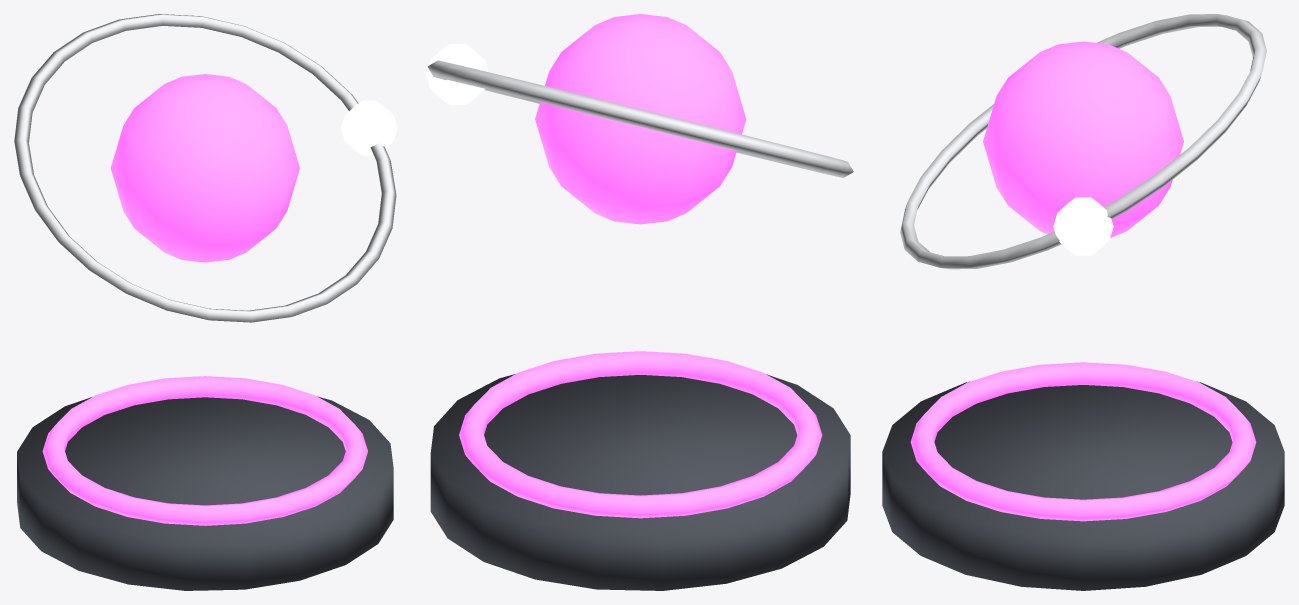
Rendered from holo_lamp_orbit.glb.
3 views of the same model, side by side, from view 1: azimuth 30°, elevation 25°; view 2: azimuth 150°, elevation 25°; view 3: azimuth 270°, elevation 25° (orthographic). The views are drawn at different scales.
Visible parts, largest first — view 1: GD_holo_lamp_orbit__m0, GD_holo_lamp_orbit__m1, GD_holo_lamp_orbit__m2, GD_holo_lamp_orbit__m3; view 2: GD_holo_lamp_orbit__m0, GD_holo_lamp_orbit__m1, GD_holo_lamp_orbit__m2, GD_holo_lamp_orbit__m3; view 3: GD_holo_lamp_orbit__m0, GD_holo_lamp_orbit__m1, GD_holo_lamp_orbit__m2, GD_holo_lamp_orbit__m3.
Boxes of the visible parts, left/top/right/bottom form: GD_holo_lamp_orbit__m0: left=17, top=396, right=393, bottom=590; GD_holo_lamp_orbit__m1: left=42, top=74, right=367, bottom=525; GD_holo_lamp_orbit__m2: left=14, top=14, right=396, bottom=322; GD_holo_lamp_orbit__m3: left=341, top=100, right=397, bottom=155; GD_holo_lamp_orbit__m0: left=430, top=374, right=850, bottom=590; GD_holo_lamp_orbit__m1: left=459, top=14, right=822, bottom=518; GD_holo_lamp_orbit__m2: left=427, top=60, right=853, bottom=177; GD_holo_lamp_orbit__m3: left=426, top=44, right=488, bottom=105; GD_holo_lamp_orbit__m0: left=882, top=381, right=1284, bottom=590; GD_holo_lamp_orbit__m1: left=910, top=41, right=1256, bottom=521; GD_holo_lamp_orbit__m2: left=900, top=14, right=1266, bottom=269; GD_holo_lamp_orbit__m3: left=1053, top=197, right=1113, bottom=255.
Size of the model in its own units: 0.217 by 0.2515 by 0.2.
